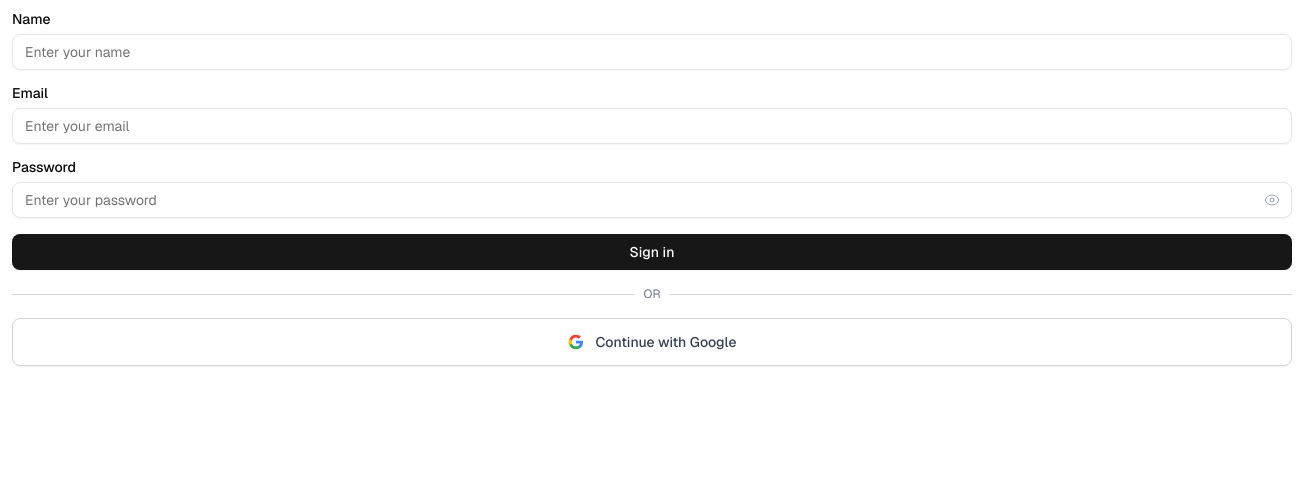
Test: SignUpForm Component › Password Requirements Display › shows password requirements when user starts typing
Type "a" into the password field labelled "Password" at (652, 200), box [12,182,1292,218]
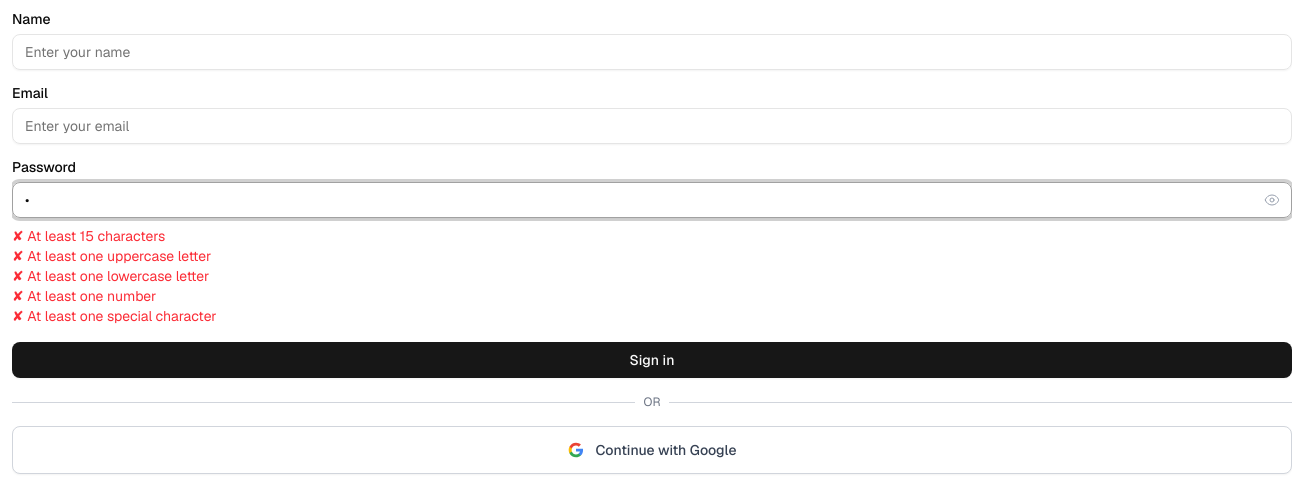
Expected: the list item "✘ At least 15 characters" is shown, [12,227,165,245]
Expected: the list item "✘ At least one uppercase letter" is shown, [12,247,211,265]
Expected: the list item "✘ At least one lowercase letter" is shown, [12,267,209,285]
